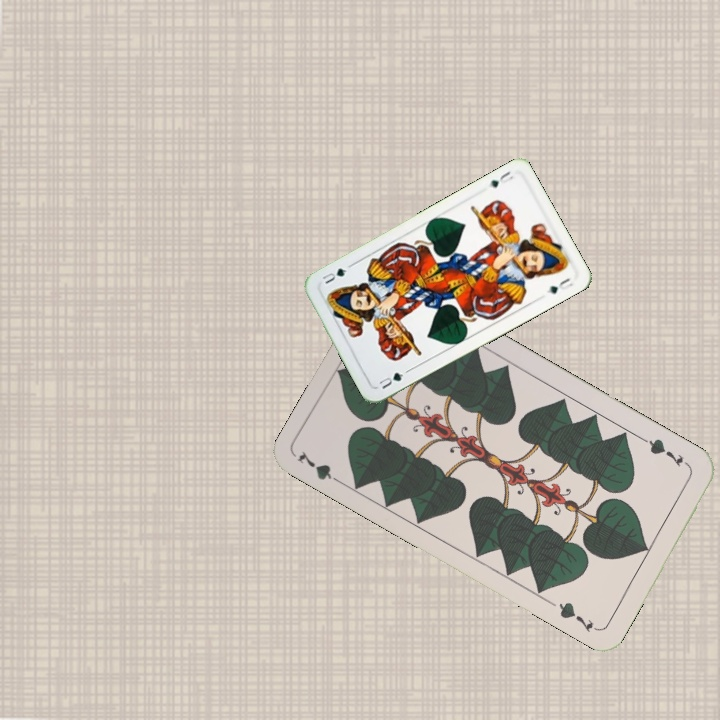G7: (293, 446, 348, 488), (639, 434, 693, 470)
GU: (375, 366, 411, 392), (484, 167, 516, 190)
